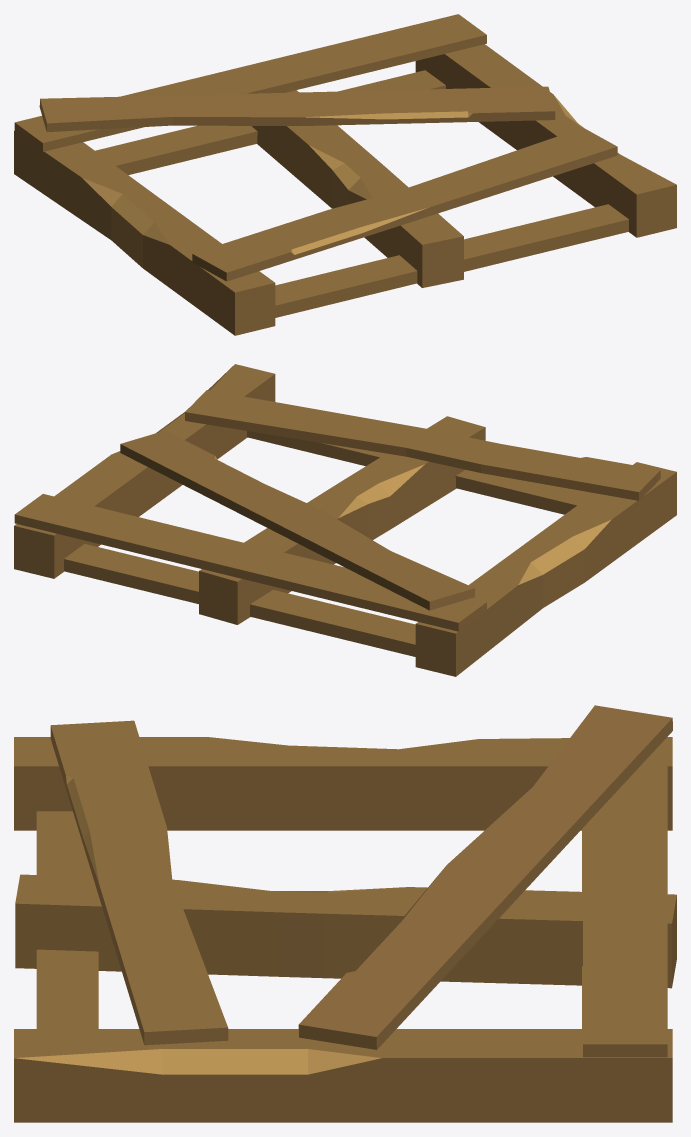
File: Pallet_Broken.glb
The picture shows the model from 3 angles, top to bottom: view 1: azimuth 30°, elevation 25°; view 2: azimuth 150°, elevation 25°; view 3: azimuth 270°, elevation 25°; orthographic projection. The views are drawn at different scales.
Visible parts, largest first — view 1: Pallet_Broken; view 2: Pallet_Broken; view 3: Pallet_Broken.
Part boxes in pixels (box(x1,y1,x2,y2)): Pallet_Broken: box(14, 14, 676, 335); Pallet_Broken: box(14, 364, 676, 676); Pallet_Broken: box(14, 705, 676, 1122).
Bounding box in the file's own units: 1.69 × 0.2507 × 1.47.
